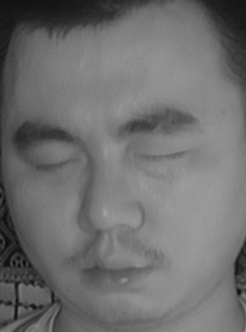blink: (31, 145, 84, 188), (132, 139, 190, 175)
mouth: (75, 240, 163, 298)
